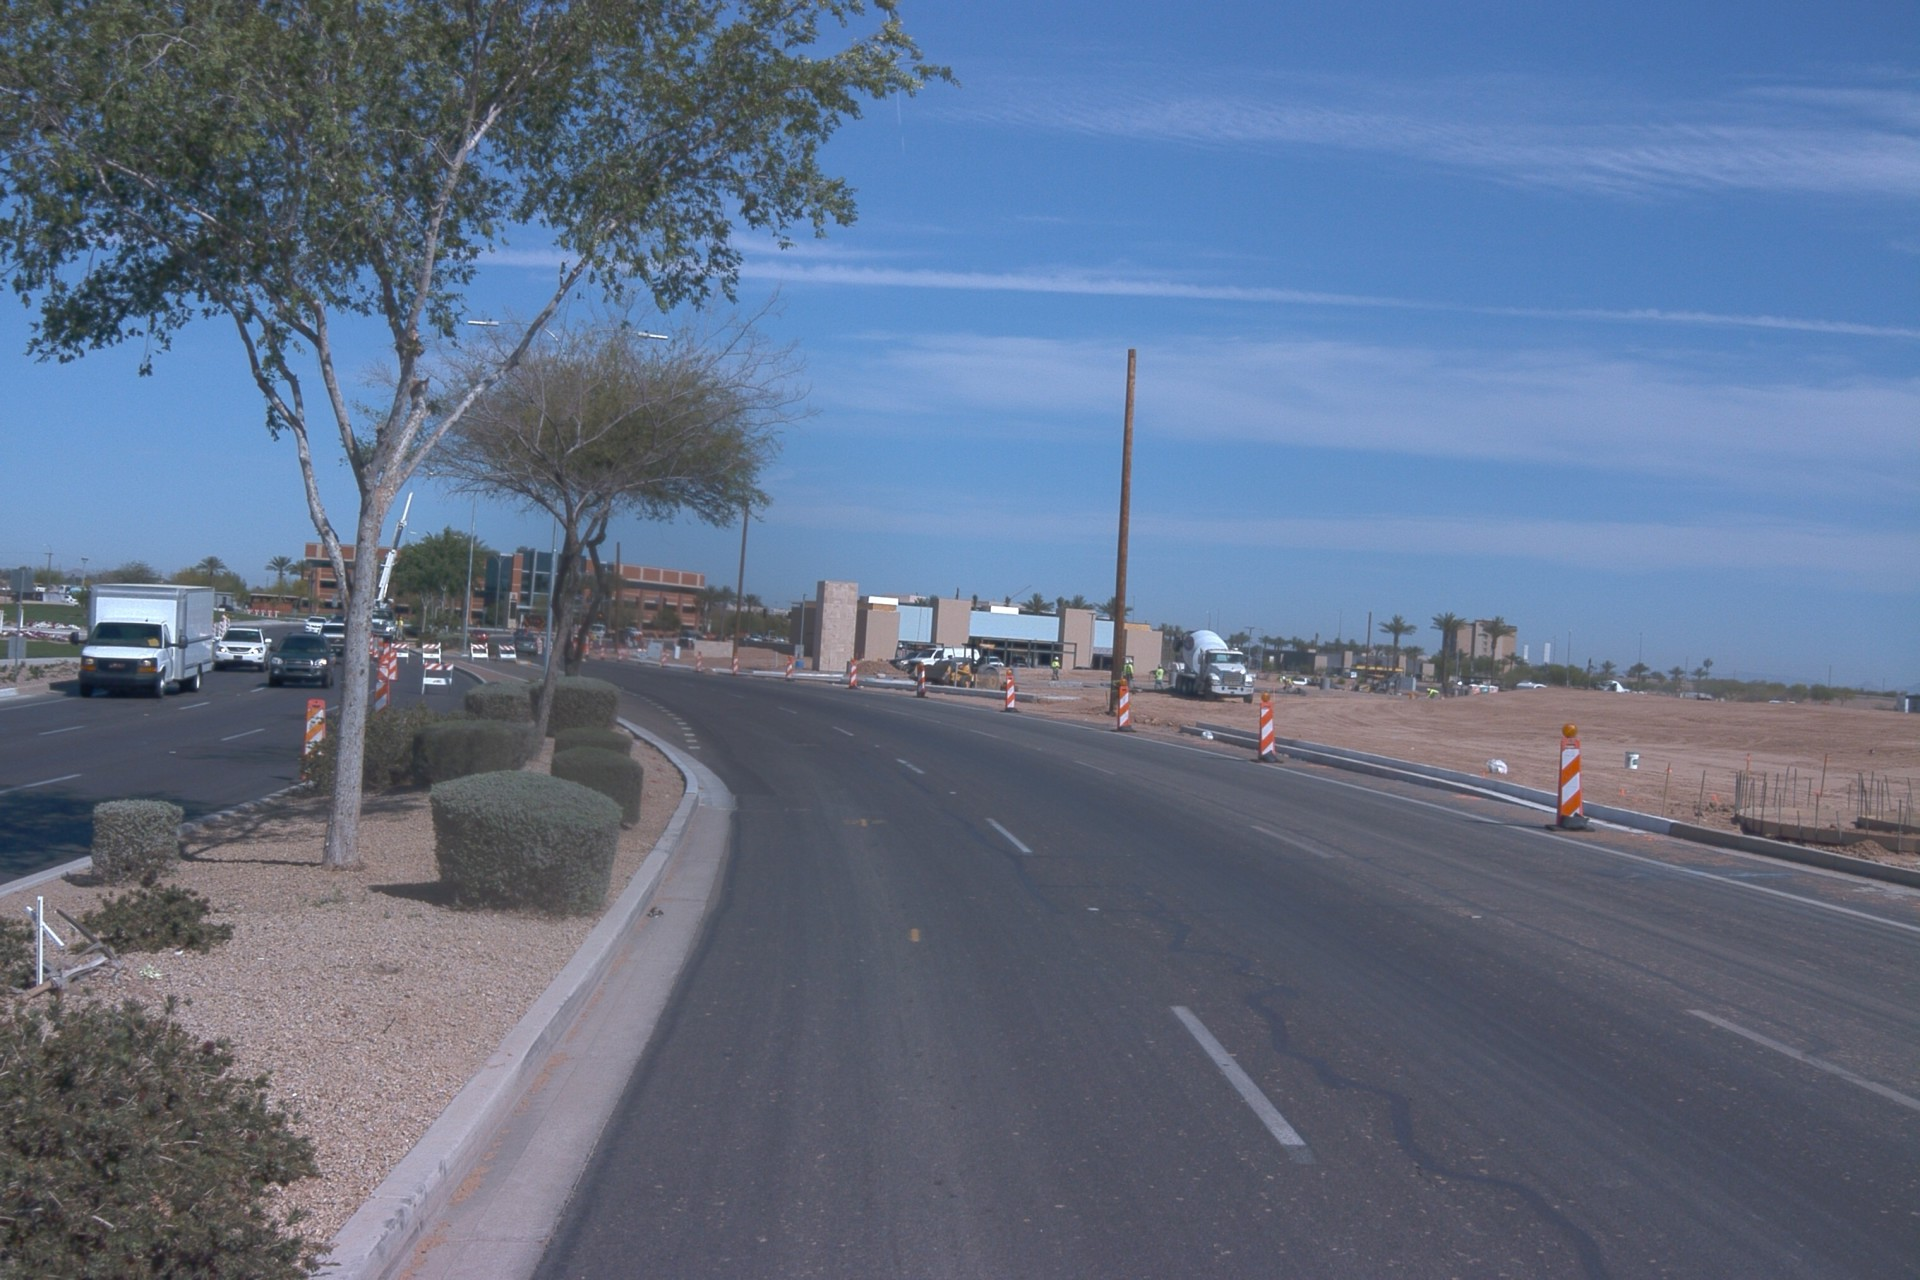TYPE_PEDESTRIAN: (1153, 663, 1165, 695), (1123, 660, 1134, 689), (1051, 655, 1061, 681), (1280, 676, 1293, 694), (396, 615, 405, 638), (1124, 660, 1131, 685)
TYPE_VEHICLE: (69, 583, 218, 700), (362, 482, 427, 655), (267, 630, 332, 688), (211, 623, 273, 673), (906, 645, 983, 674), (319, 618, 357, 655), (1354, 675, 1402, 696), (888, 653, 924, 679), (680, 632, 717, 651), (466, 627, 491, 651), (504, 635, 537, 653), (7, 589, 45, 604), (303, 617, 329, 636), (588, 622, 615, 639), (1516, 680, 1548, 693), (1765, 696, 1800, 706), (983, 654, 1005, 669), (626, 625, 647, 637), (1170, 660, 1188, 674), (1291, 675, 1310, 688), (328, 616, 343, 627), (1070, 666, 1094, 671), (1100, 664, 1114, 672), (1147, 669, 1160, 675)
